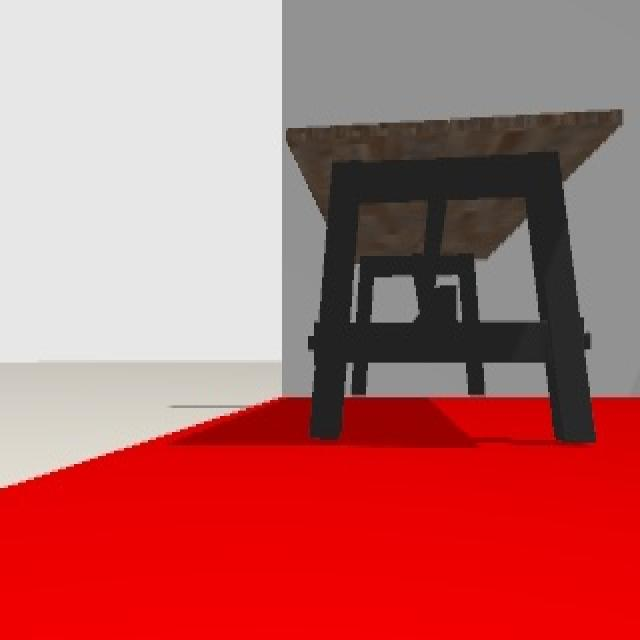dining: (289, 106, 622, 444)
